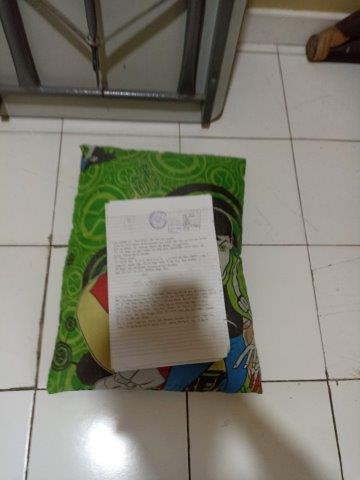kertas: (105, 195, 230, 371)
